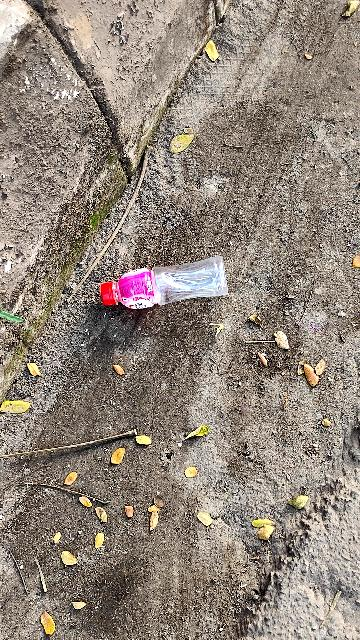bottle: (90, 261, 275, 308)
